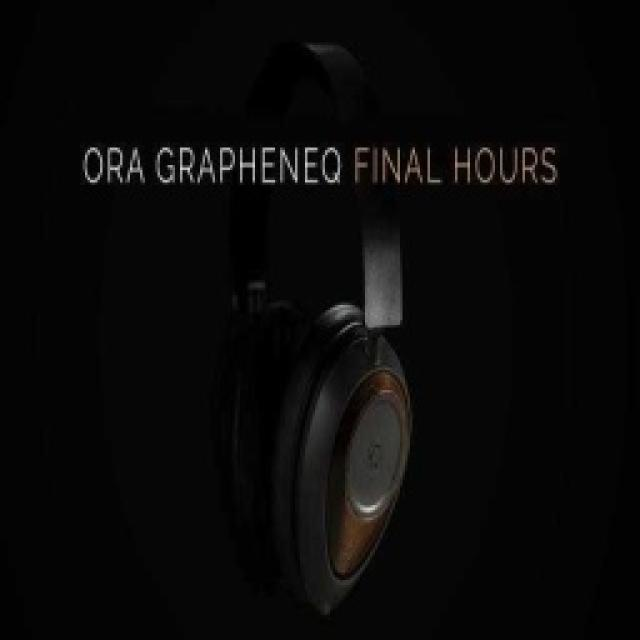headphones: (217, 37, 415, 615)
